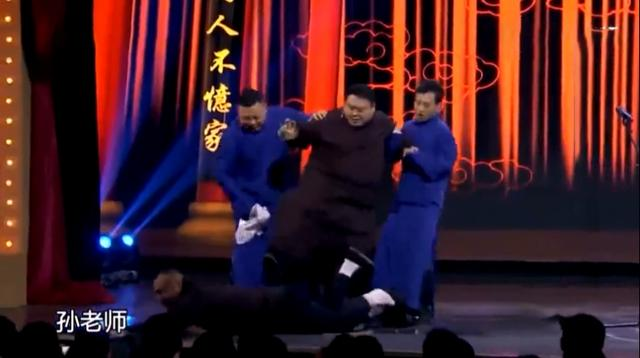fall: (140, 261, 417, 355)
